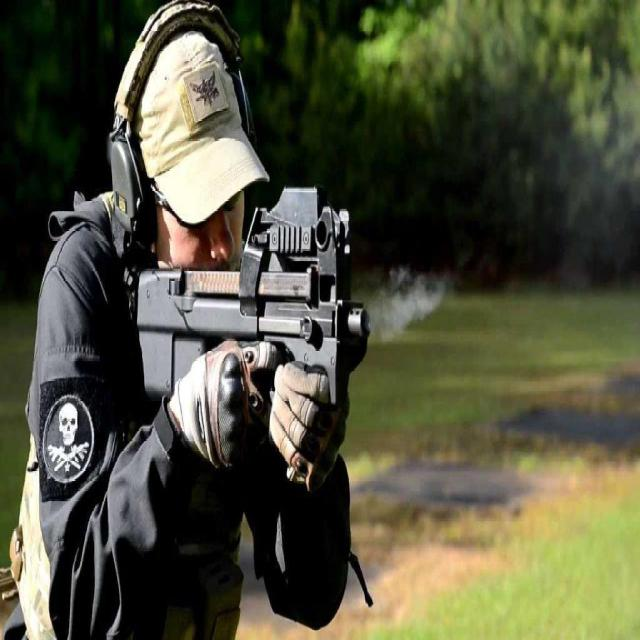SMG: (137, 187, 371, 427)
